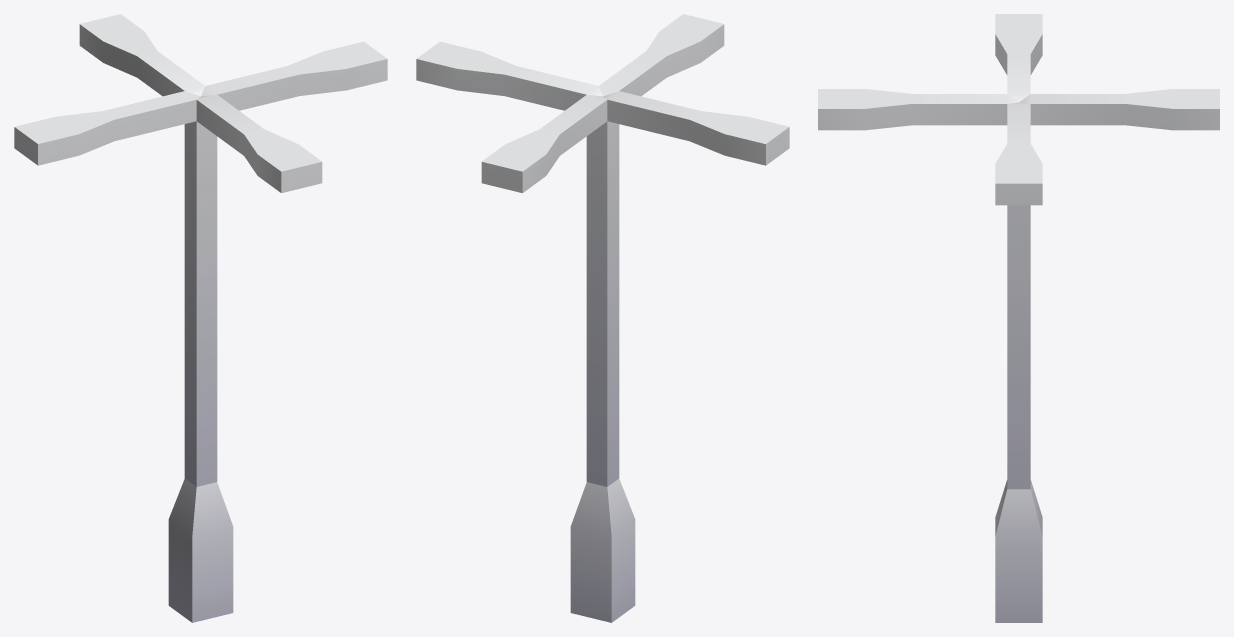
Rendered from kenney-city-roads-light-square-cross.glb.
The picture shows the model from 3 angles, left to right: view 1: azimuth 30°, elevation 25°; view 2: azimuth 150°, elevation 25°; view 3: azimuth 270°, elevation 25°; orthographic projection.
Parts seen in each view (by area): view 1: light-square-cross; view 2: light-square-cross; view 3: light-square-cross.
Part boxes in pixels (x1=…): light-square-cross: x1=14, y1=14, x2=387, y2=622; light-square-cross: x1=416, y1=14, x2=789, y2=622; light-square-cross: x1=818, y1=14, x2=1219, y2=622.
Size of the model in its own units: 0.425 by 0.6 by 0.425.
Materials: 1 (1 with a texture image).
